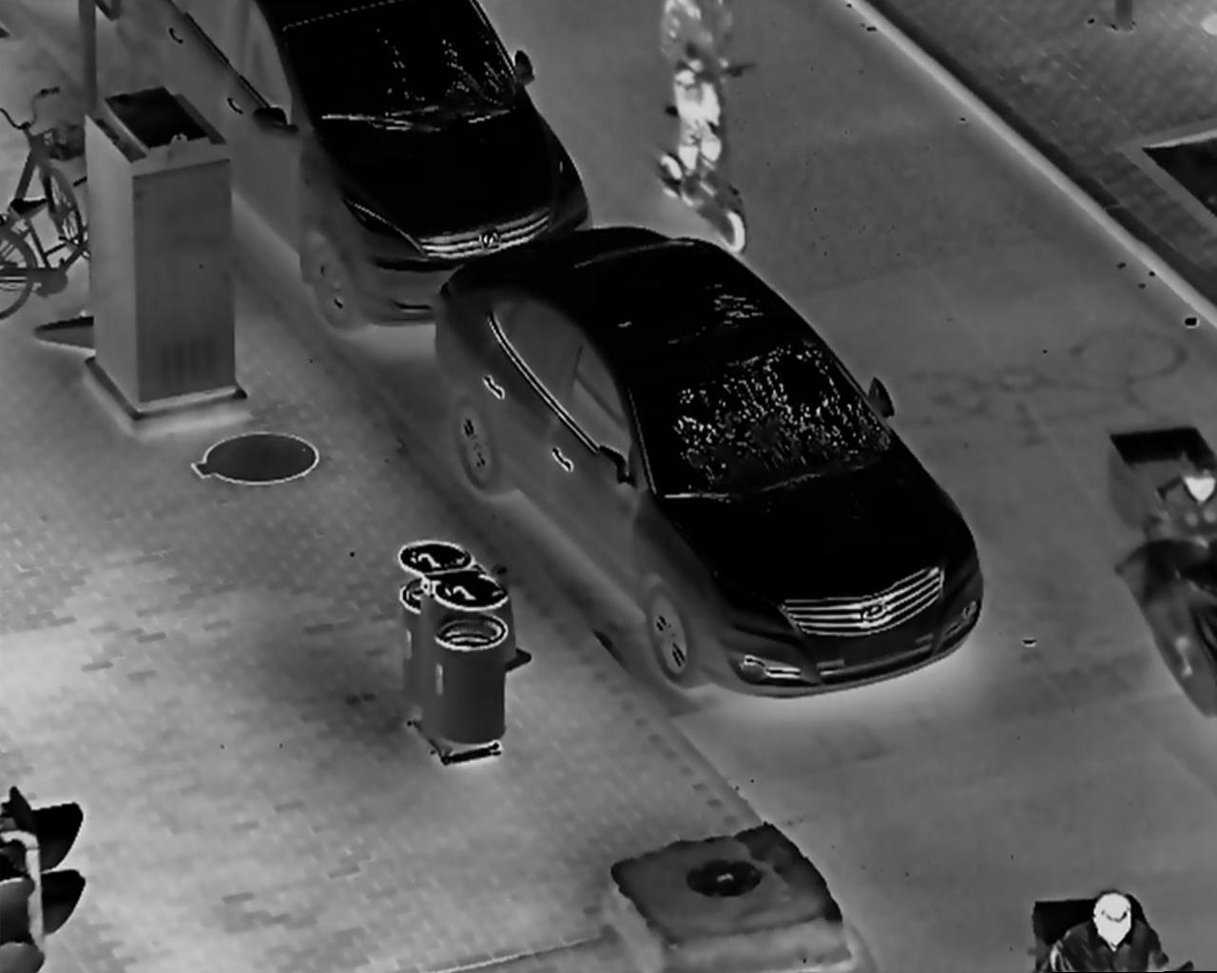person: (1141, 438, 1217, 658), (1046, 892, 1183, 973)
